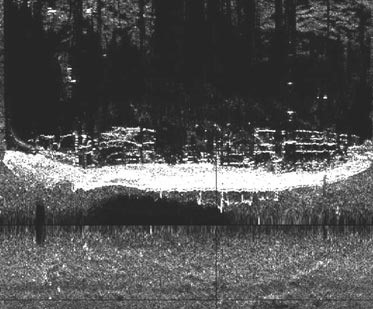ship: (6, 123, 372, 194)
